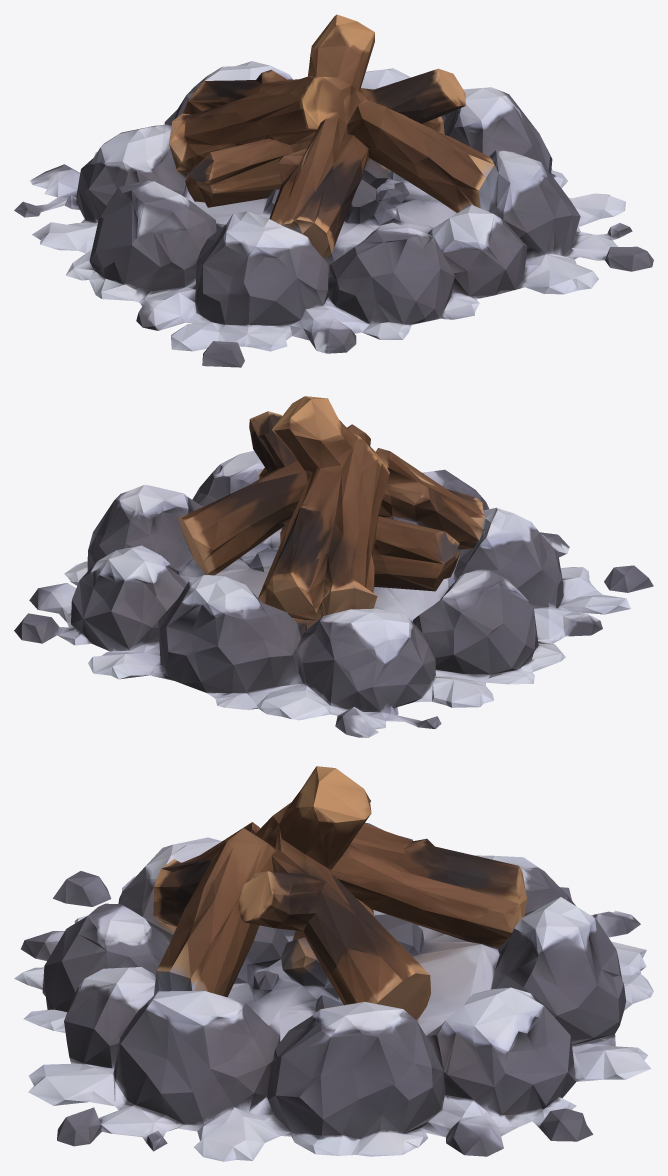
The model's file is firepit.glb.
The picture shows the model from 3 angles, top to bottom: view 1: azimuth 30°, elevation 25°; view 2: azimuth 150°, elevation 25°; view 3: azimuth 270°, elevation 25°; orthographic projection. The views are drawn at different scales.
Parts seen in each view (by area): view 1: Firepit; view 2: Firepit; view 3: Firepit.
Part boxes in pixels (x1,y1,x2,y2): Firepit: (14, 14, 653, 367); Firepit: (14, 396, 653, 737); Firepit: (14, 766, 653, 1161).
Size of the model in its own units: 1 by 0.4218 by 0.9461.
1 material, 1 textured.
